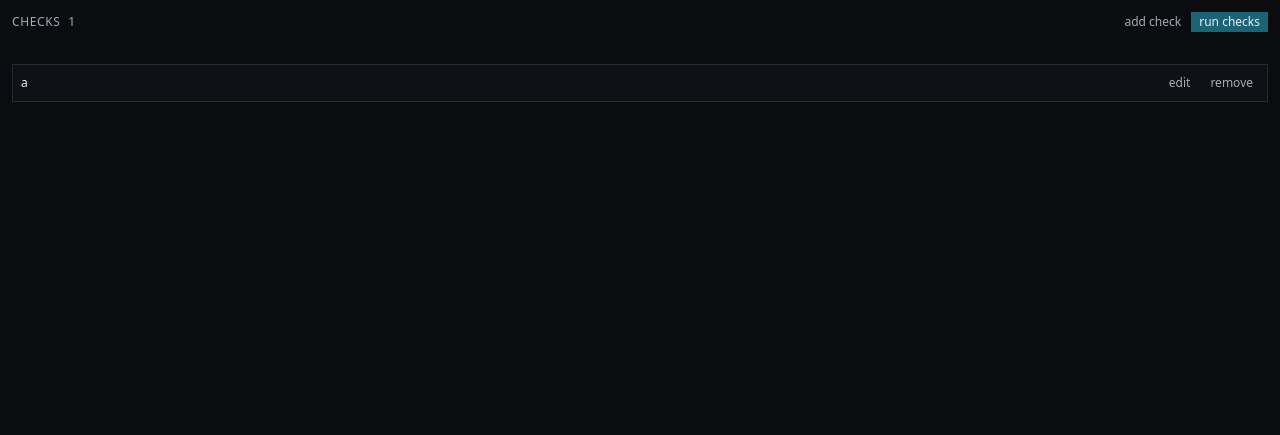
ChecksPanel › fills the expected output from a run, with the exit status as $? shows it
What coordinates should you click on to do the following:
click the button with aria-label "edit a"
I would click on:
 (1180, 83)
Its box is [1163,73,1196,93].
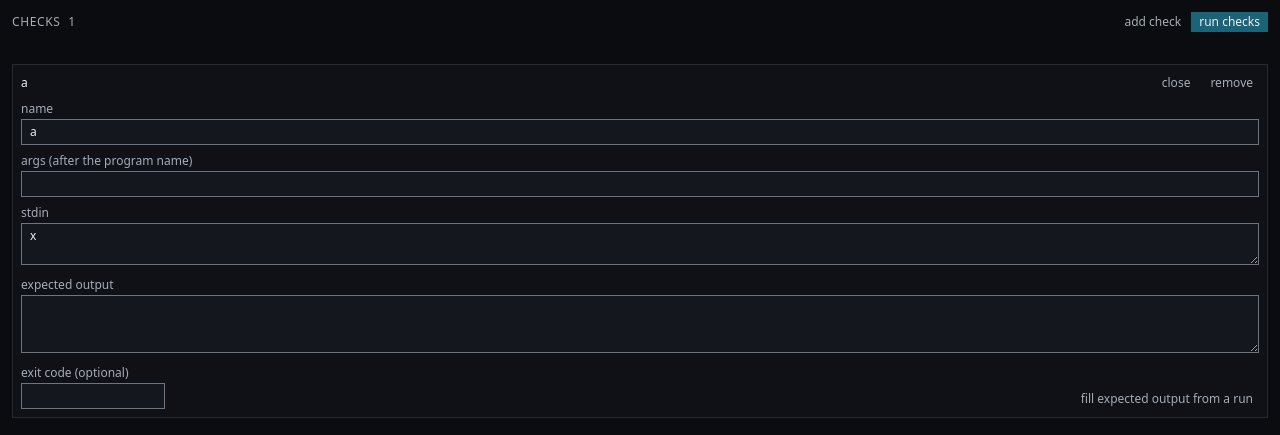
What coordinates should you click on to do the following:
click the button "fill expected output from a run"
I would click on:
 (1167, 399)
Its box is [1075,389,1259,409].
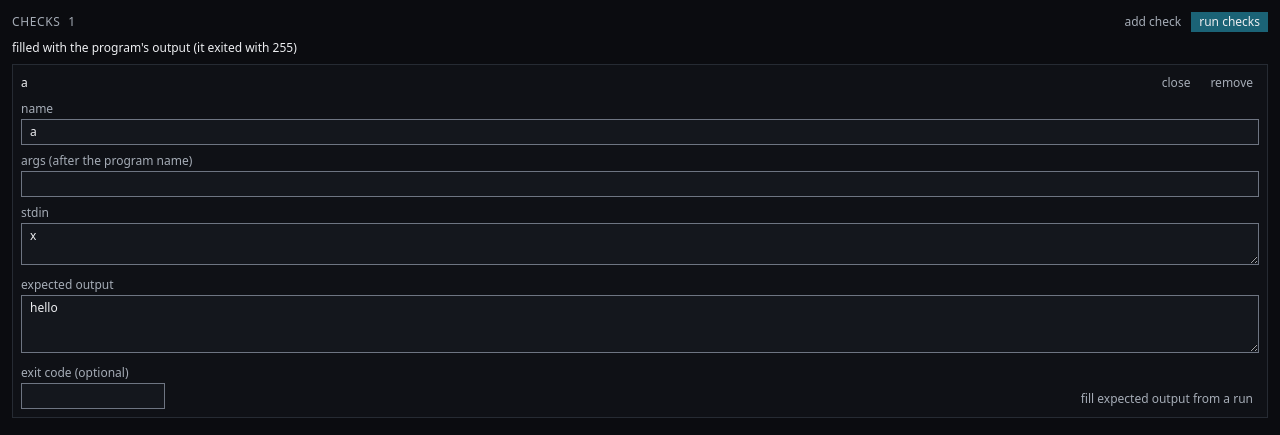
expect the message reads "filled with the program's output (it exited with 255)": met, box [12,39,297,56]
